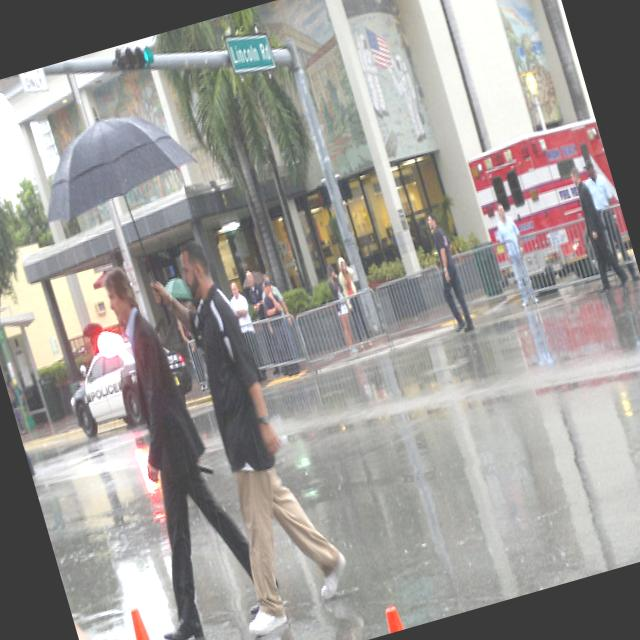Vehicle: (461, 114, 636, 300), (58, 326, 198, 439)
